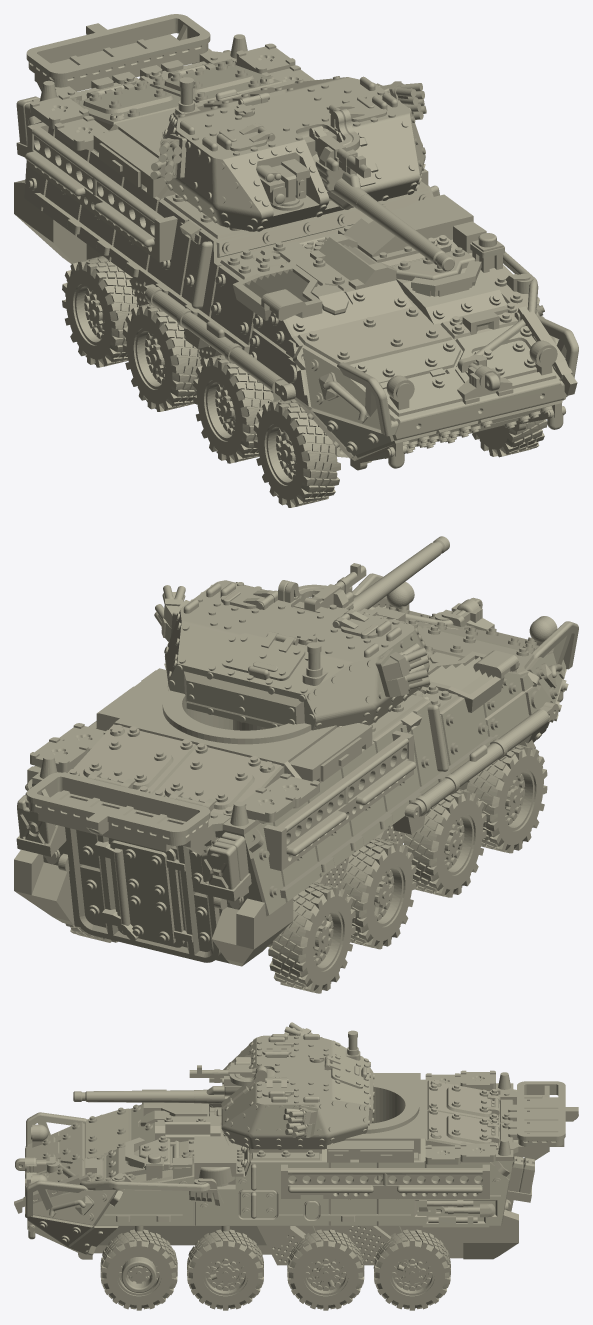
File: m1296_dragoon_bergman.glb
The picture shows the model from 3 angles, top to bottom: view 1: azimuth 30°, elevation 25°; view 2: azimuth 150°, elevation 25°; view 3: azimuth 270°, elevation 25°; orthographic projection. The views are drawn at different scales.
Visible parts, largest first — view 1: HullMesh, TurretMesh; view 2: HullMesh, TurretMesh; view 3: HullMesh, TurretMesh.
Boxes of the visible parts, box(x1,y1,x2,y2) form: HullMesh: box(14, 14, 578, 507); TurretMesh: box(150, 76, 454, 271); HullMesh: box(14, 573, 578, 993); TurretMesh: box(154, 536, 449, 730); HullMesh: box(14, 1070, 578, 1310); TurretMesh: box(73, 1022, 374, 1149).
Size of the model in its own units: 3.12 by 3.25 by 7.78.
